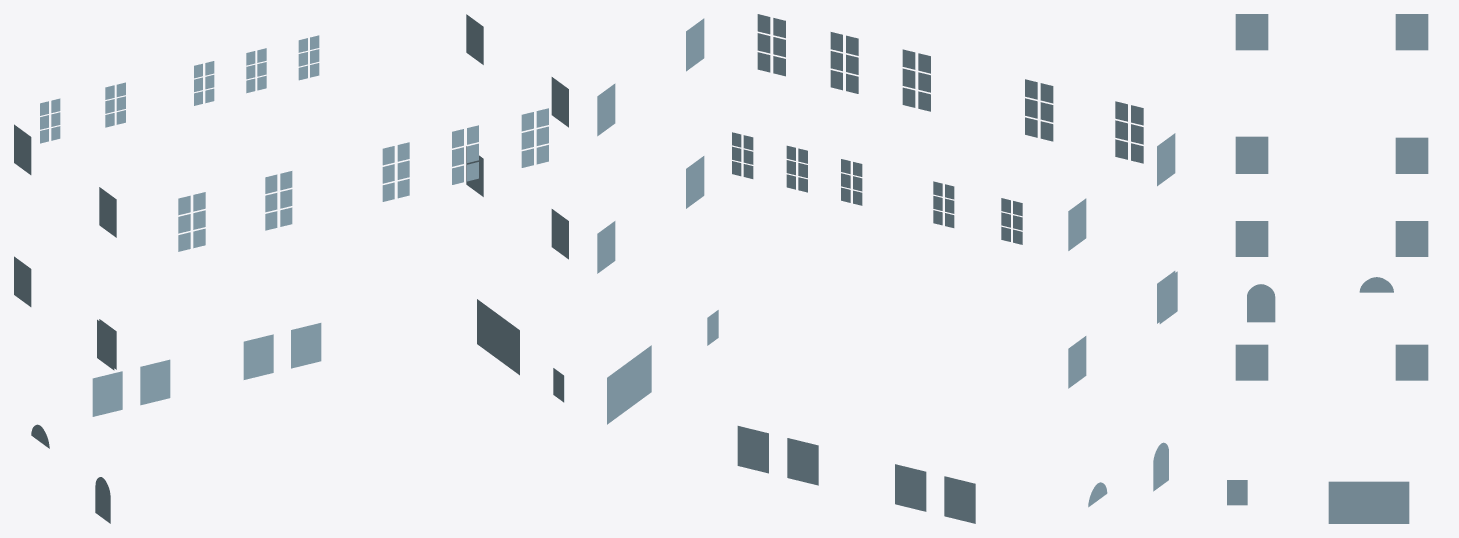
The model's file is FairyTale52.gltf.
The picture shows the model from 3 angles, left to right: view 1: azimuth 30°, elevation 25°; view 2: azimuth 150°, elevation 25°; view 3: azimuth 270°, elevation 25°; orthographic projection. The views are drawn at different scales.
Visible parts, largest first — view 1: HouseLG05_Glass; view 2: HouseLG05_Glass; view 3: HouseLG05_Glass.
Boxes of the visible parts, x1,y1,x2,y2 form: HouseLG05_Glass: (14,14,568,523); HouseLG05_Glass: (597,14,1177,523); HouseLG05_Glass: (1227,14,1428,523).
Bounding box in the file's own units: 16.37 × 11.5 × 7.93.
